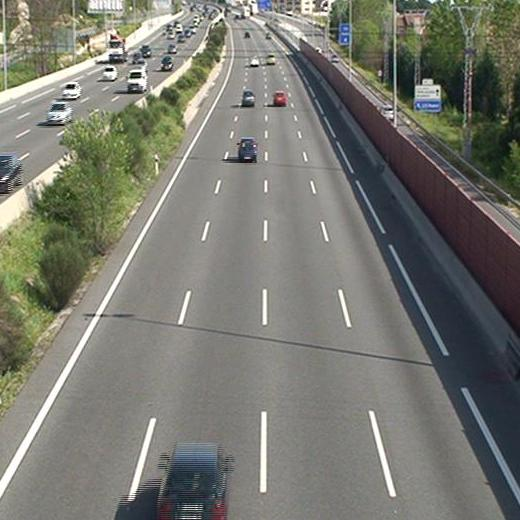car: (156, 442, 229, 520), (238, 137, 257, 161), (241, 90, 255, 107), (274, 90, 287, 106), (265, 53, 274, 65), (249, 56, 259, 65)
